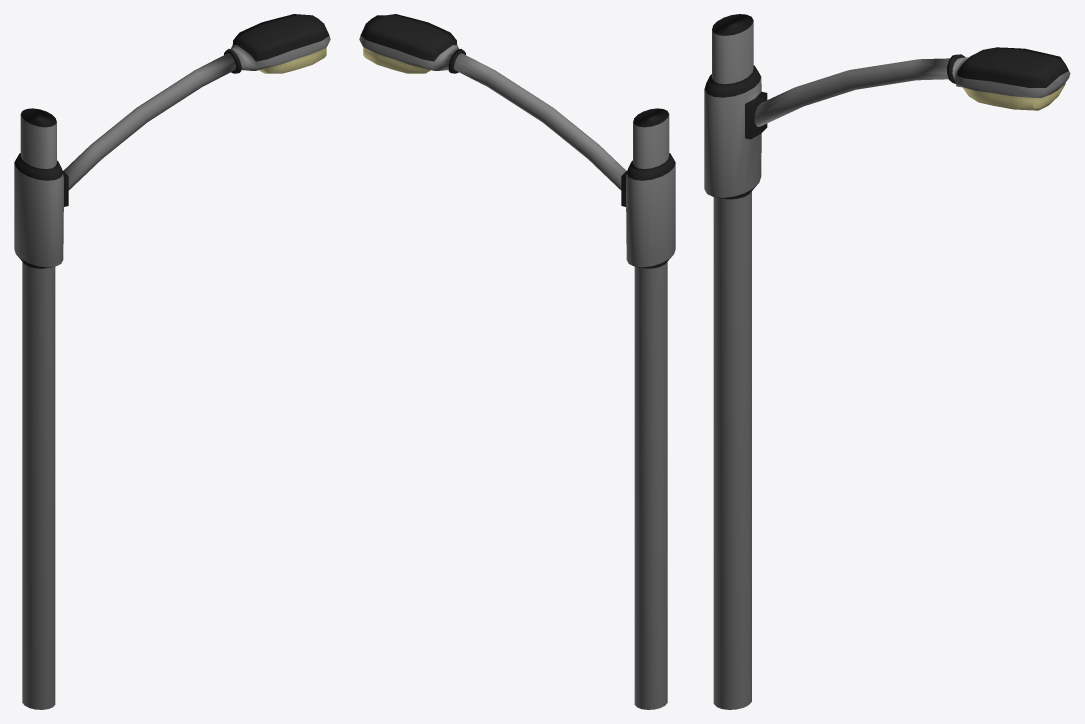
Rendered from LampPost.fbx.
3 renders of one model, left to right at view 1: azimuth 30°, elevation 25°; view 2: azimuth 150°, elevation 25°; view 3: azimuth 330°, elevation 25°, orthographic. The views are drawn at different scales.
Visible parts, largest first — view 1: poste; view 2: poste; view 3: poste.
Boxes of the visible parts, x1,y1,x2,y2 form: poste: [14, 14, 330, 709]; poste: [359, 14, 675, 709]; poste: [704, 14, 1070, 709].
Bounding box in the file's own units: 367 × 717 × 72.
